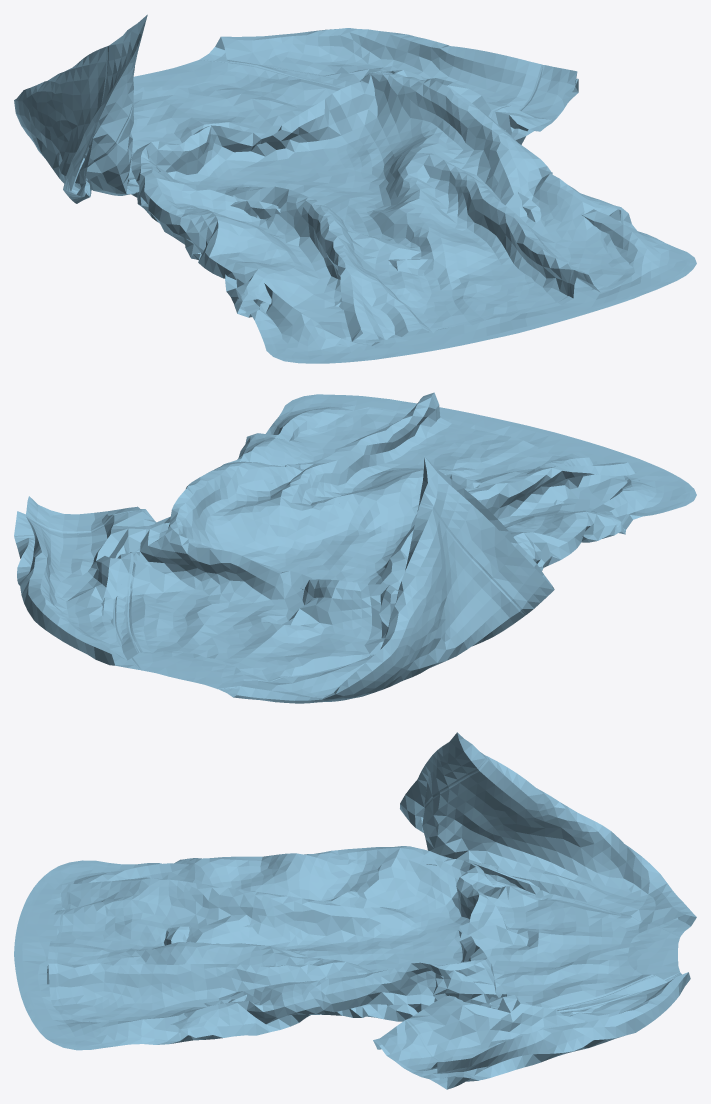
File: frame_11.glb
3 renders of one model, top to bottom at view 1: azimuth 30°, elevation 25°; view 2: azimuth 150°, elevation 25°; view 3: azimuth 270°, elevation 25°, orthographic. The views are drawn at different scales.
Parts seen in each view (by area): view 1: frame_11.obj; view 2: frame_11.obj; view 3: frame_11.obj.
Boxes of the visible parts, x1,y1,x2,y2 form: frame_11.obj: [14, 14, 696, 363]; frame_11.obj: [14, 392, 696, 703]; frame_11.obj: [14, 732, 696, 1089].
Size of the model in its own units: 1.54 by 0.5046 by 1.83.
